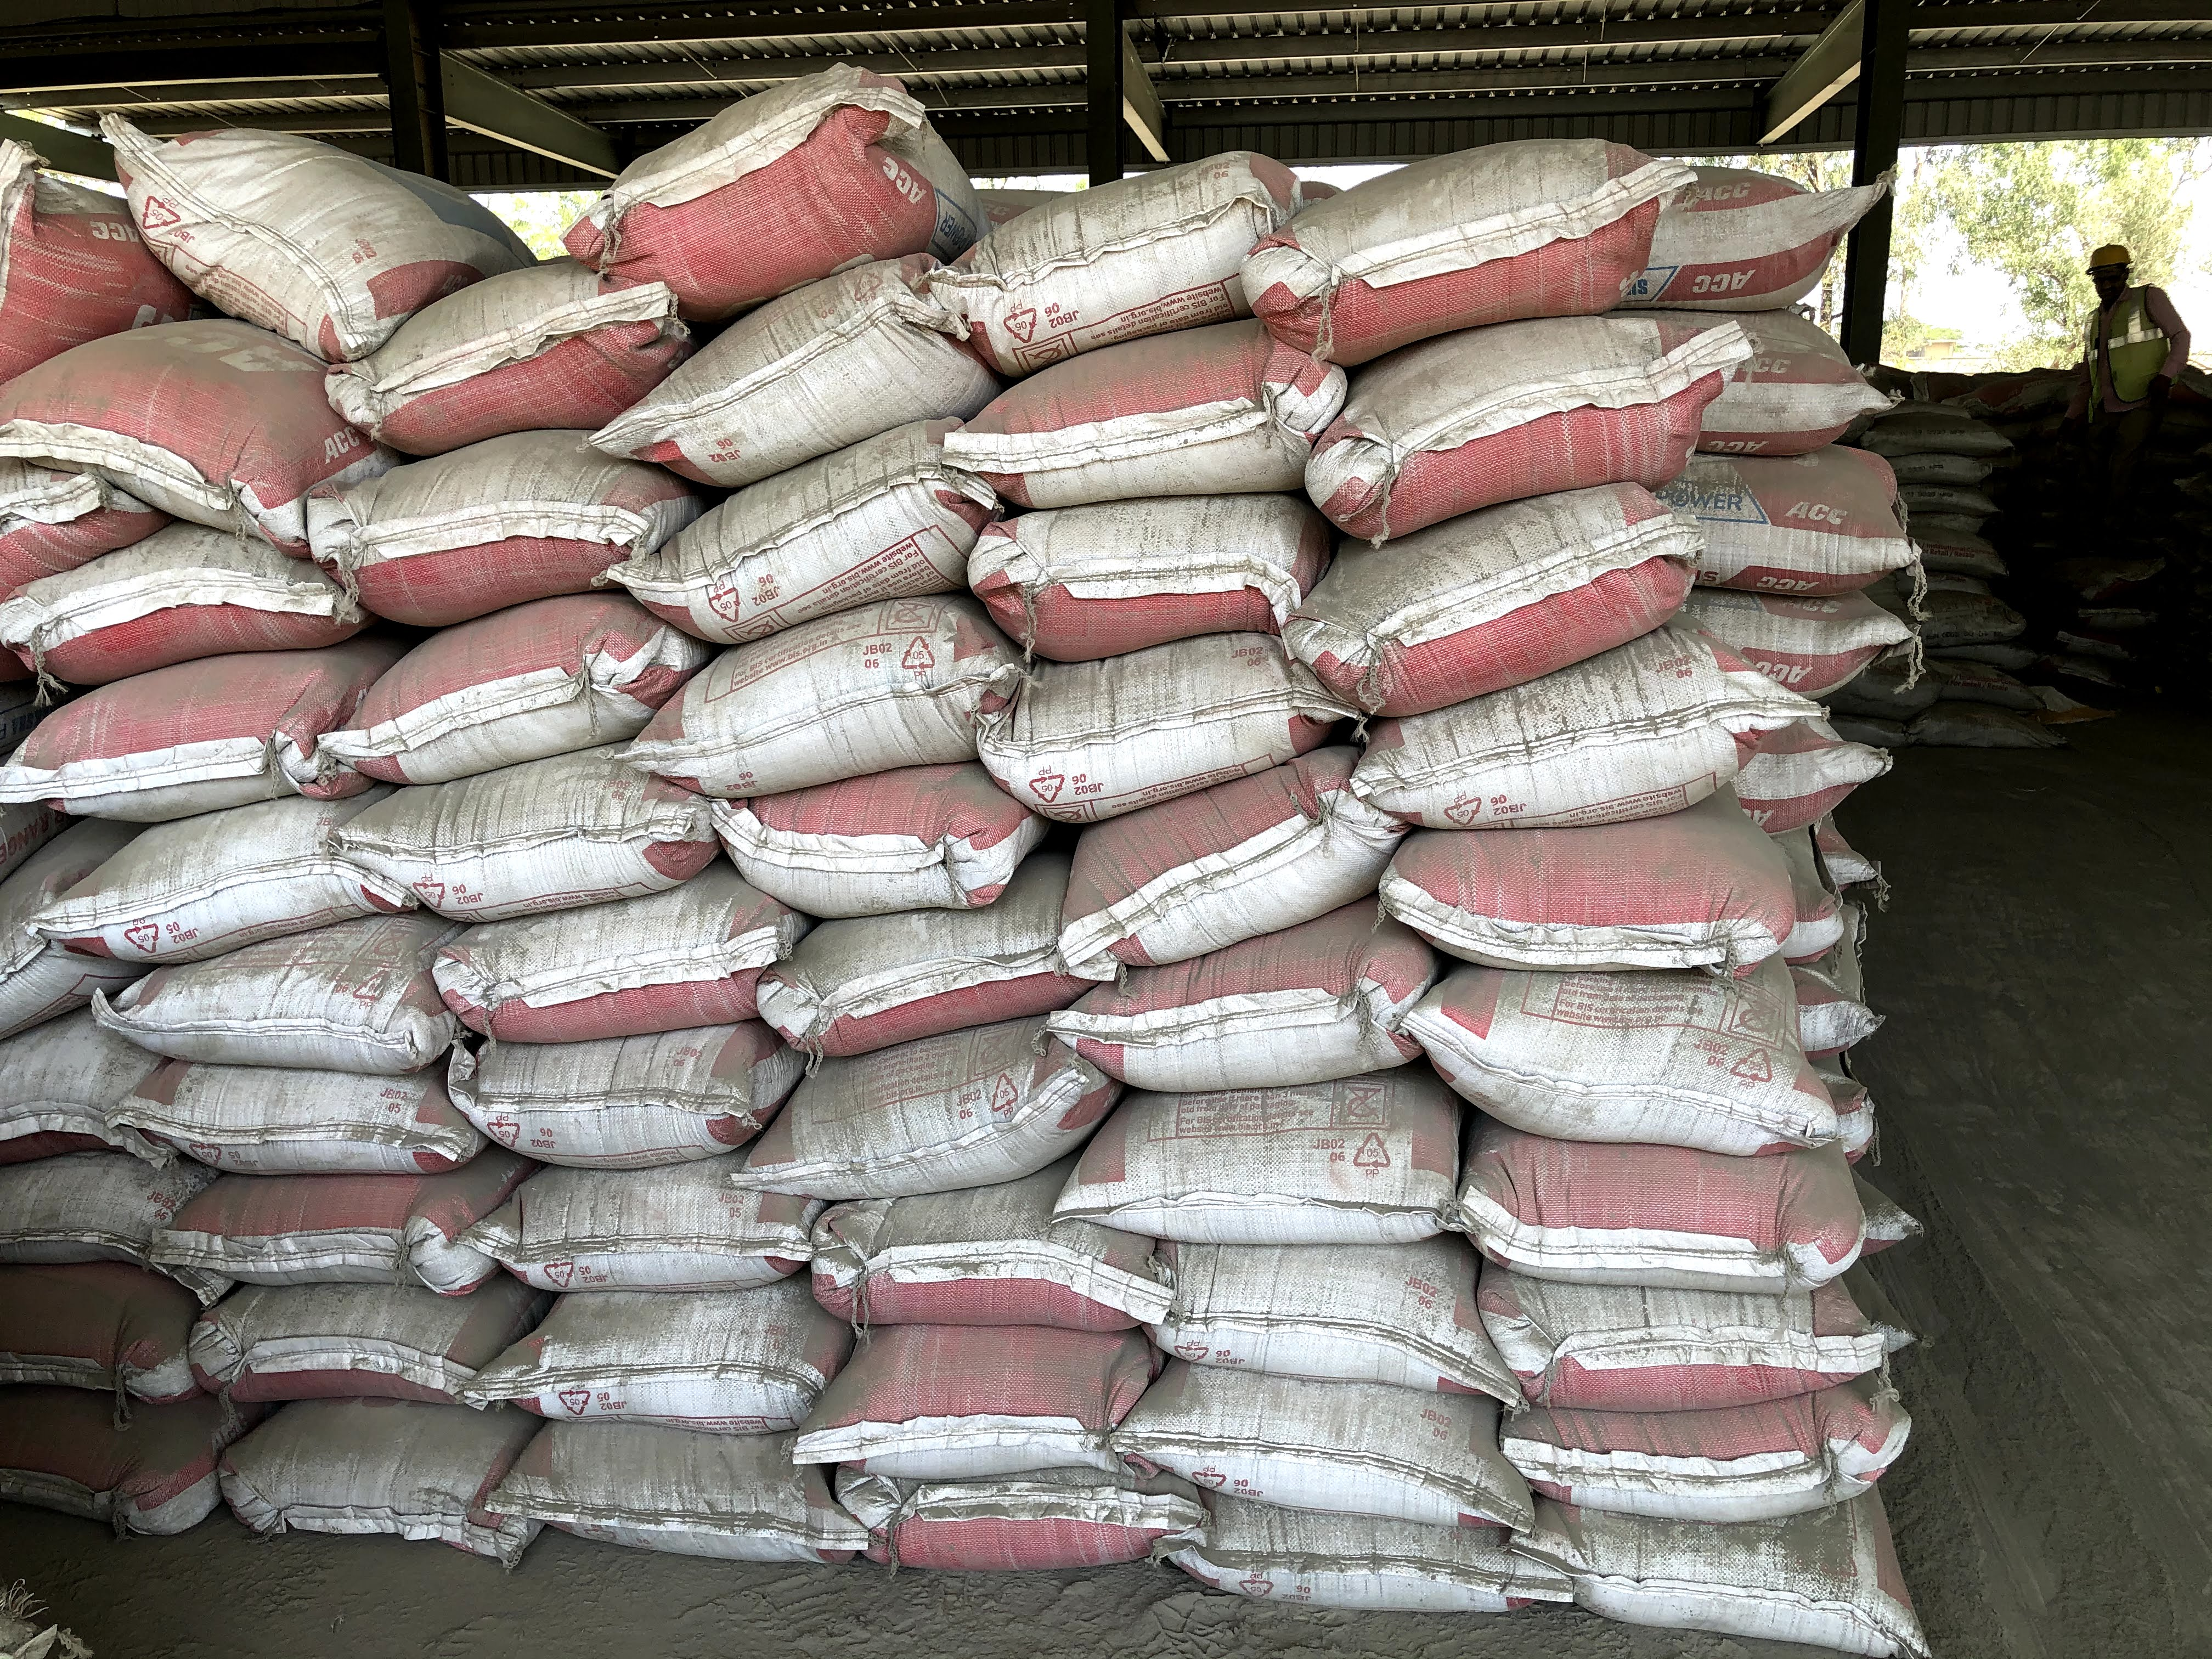cement bag: (1299, 279, 1705, 490), (1439, 1119, 1895, 1295), (1385, 824, 1815, 990), (1385, 622, 1730, 824), (611, 110, 934, 321), (131, 91, 373, 369), (336, 378, 641, 580), (1075, 1082, 1458, 1239), (766, 1053, 1101, 1223), (1299, 490, 1730, 622), (1024, 798, 1418, 938), (374, 885, 789, 1012), (956, 321, 1258, 493), (336, 580, 657, 741), (503, 1410, 846, 1558), (1480, 1295, 1895, 1417), (1075, 938, 1418, 1082), (1439, 990, 1815, 1119), (7, 350, 308, 509), (146, 1258, 479, 1398), (651, 652, 986, 784), (1024, 622, 1275, 798), (37, 795, 303, 960), (1165, 1354, 1491, 1488), (1527, 1500, 1916, 1612), (37, 960, 437, 1066), (766, 903, 1047, 1053), (676, 502, 995, 631), (956, 493, 1275, 622), (374, 741, 657, 885), (172, 1398, 479, 1530), (484, 1012, 789, 1143), (16, 509, 308, 645), (846, 1223, 1101, 1371), (946, 200, 1258, 321), (503, 1276, 780, 1410), (747, 779, 1043, 904), (16, 666, 303, 795), (1480, 1417, 1916, 1500), (1305, 188, 1705, 279), (846, 1371, 1153, 1481), (1165, 1239, 1458, 1354), (509, 1152, 780, 1276), (169, 1072, 451, 1185), (1204, 1488, 1491, 1593), (611, 321, 907, 408), (846, 1481, 1153, 1558), (146, 1185, 451, 1258), (364, 303, 641, 378)
